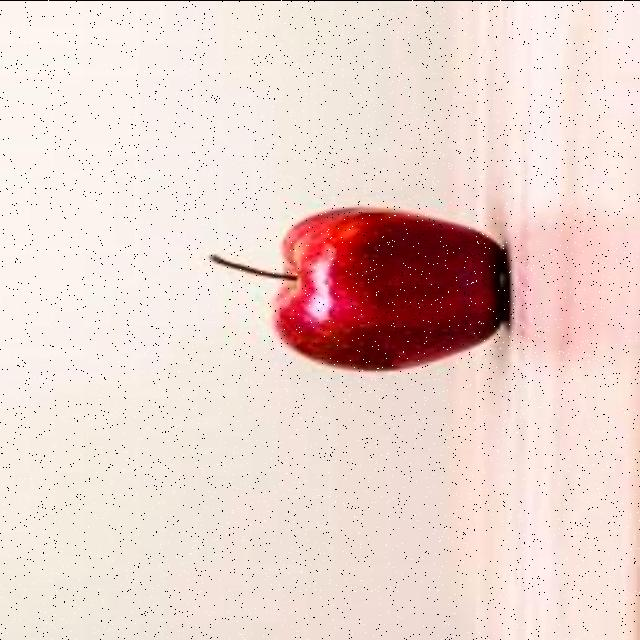HEALTHY: (228, 172, 522, 382)
